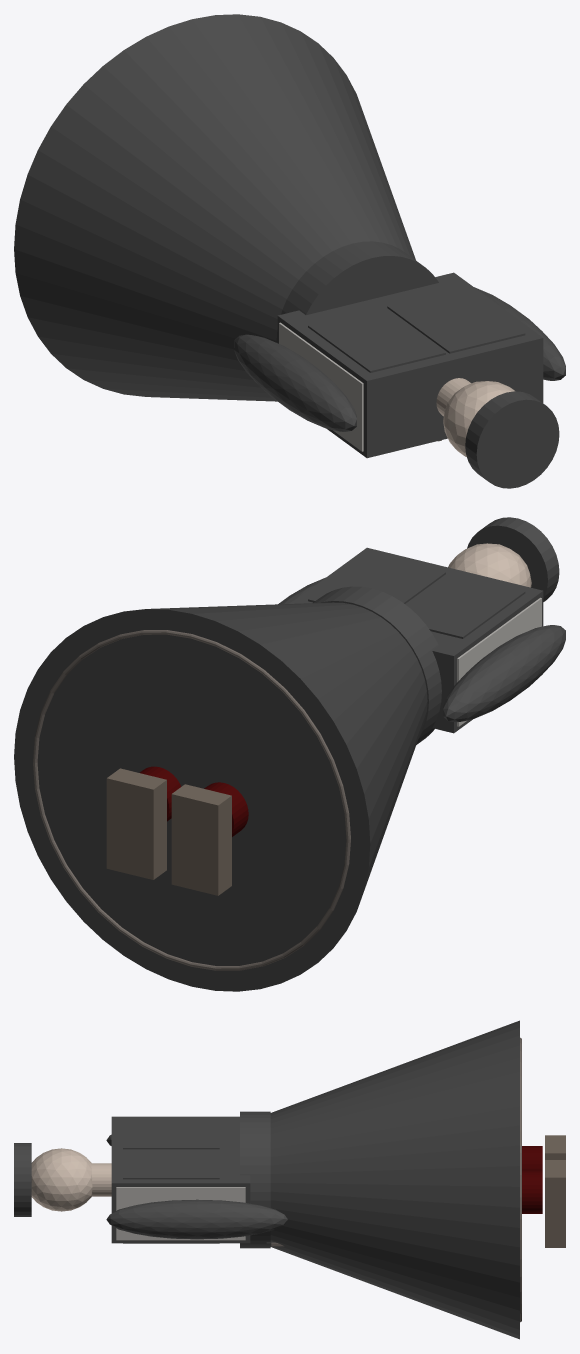
File: MASTER_156_STAGE3_DETAIL.glb
3 views of the same model, one above another, from view 1: azimuth 30°, elevation 25°; view 2: azimuth 150°, elevation 25°; view 3: azimuth 270°, elevation 25° (orthographic). The views are drawn at different scales.
Parts seen in each view (by area): view 1: slot_lower_main__fund_i_gjatë, slot_upper_inner__këmishë, slot_headwear__mbulesë_koke, slot_waist__brez, slot_upper_inner_sleeve_L, slot_upper_outer__jelek/xhamadan_R, slot_upper_outer__jelek/xhamadan_L, mannequin_torso, mannequin_head, slot_upper_inner_sleeve_R; view 2: slot_lower_main__fund_i_gjatë, slot_footwear__opinga_L, slot_footwear__opinga_R, slot_upper_inner_sleeve_L, detail_skirt_hem, slot_upper_inner__këmishë, slot_upper_outer__jelek/xhamadan_L, slot_waist__brez, slot_headwear__mbulesë_koke, slot_upper_outer__jelek/xhamadan_R, mannequin_head, mannequin_torso (+2 smaller); view 3: slot_lower_main__fund_i_gjatë, slot_upper_inner_sleeve_R, slot_upper_inner__këmishë, mannequin_head, slot_upper_outer__jelek/xhamadan_R, slot_waist__brez, slot_upper_outer__jelek/xhamadan_L, mannequin_torso, slot_footwear__opinga_R, slot_headwear__mbulesë_koke, slot_legwear__çorape_R, mannequin_neck (+3 smaller).
Part boxes in pixels (x1,y1,x2,y2): slot_lower_main__fund_i_gjatë: (14, 14, 415, 401); slot_upper_inner__këmishë: (277, 272, 543, 458); slot_headwear__mbulesë_koke: (465, 391, 559, 488); slot_waist__brez: (276, 241, 438, 342); slot_upper_inner_sleeve_L: (234, 334, 356, 431); slot_upper_outer__jelek/xhamadan_R: (387, 288, 525, 353); slot_upper_outer__jelek/xhamadan_L: (308, 307, 445, 372); mannequin_torso: (279, 322, 363, 451); mannequin_head: (443, 381, 514, 456); slot_upper_inner_sleeve_R: (474, 287, 565, 380); slot_lower_main__fund_i_gjatë: (14, 602, 427, 991); slot_footwear__opinga_L: (171, 784, 231, 895); slot_footwear__opinga_R: (106, 768, 166, 879); slot_upper_inner_sleeve_L: (443, 625, 565, 722); detail_skirt_hem: (33, 630, 350, 970); slot_upper_inner__këmishë: (290, 547, 543, 733); slot_upper_outer__jelek/xhamadan_L: (406, 573, 525, 638); slot_waist__brez: (313, 586, 441, 744); slot_headwear__mbulesë_koke: (467, 517, 559, 601); slot_upper_outer__jelek/xhamadan_R: (308, 553, 445, 603); mannequin_head: (448, 543, 531, 587); mannequin_torso: (457, 597, 541, 726); slot_lower_main__fund_i_gjatë: (270, 1020, 519, 1339); slot_upper_inner_sleeve_R: (106, 1199, 287, 1239); slot_upper_inner__këmishë: (111, 1116, 250, 1243); mannequin_head: (31, 1148, 92, 1211); slot_upper_outer__jelek/xhamadan_R: (123, 1149, 219, 1243); slot_waist__brez: (240, 1111, 270, 1248); slot_upper_outer__jelek/xhamadan_L: (123, 1119, 219, 1149); mannequin_torso: (116, 1187, 245, 1240); slot_footwear__opinga_R: (545, 1160, 565, 1247); slot_headwear__mbulesë_koke: (14, 1143, 31, 1216); slot_legwear__çorape_R: (522, 1170, 542, 1213); mannequin_neck: (91, 1163, 111, 1196).
Bounding box in the file's own units: 0.9894 × 0.9894 × 1.71.
